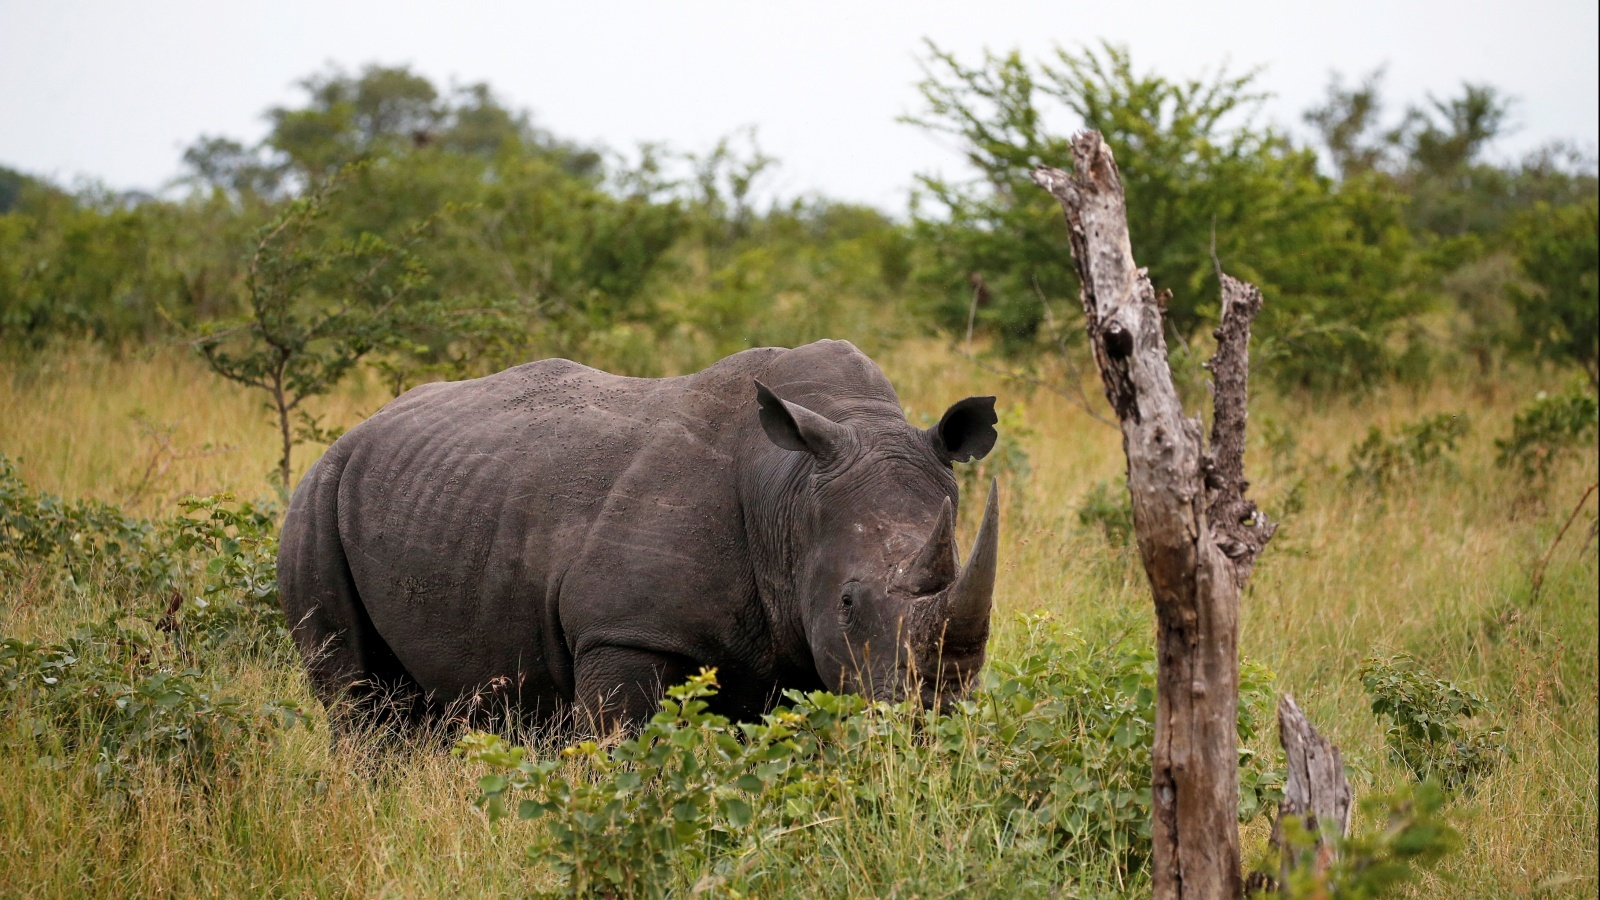rhino: (638, 540, 1375, 900)
